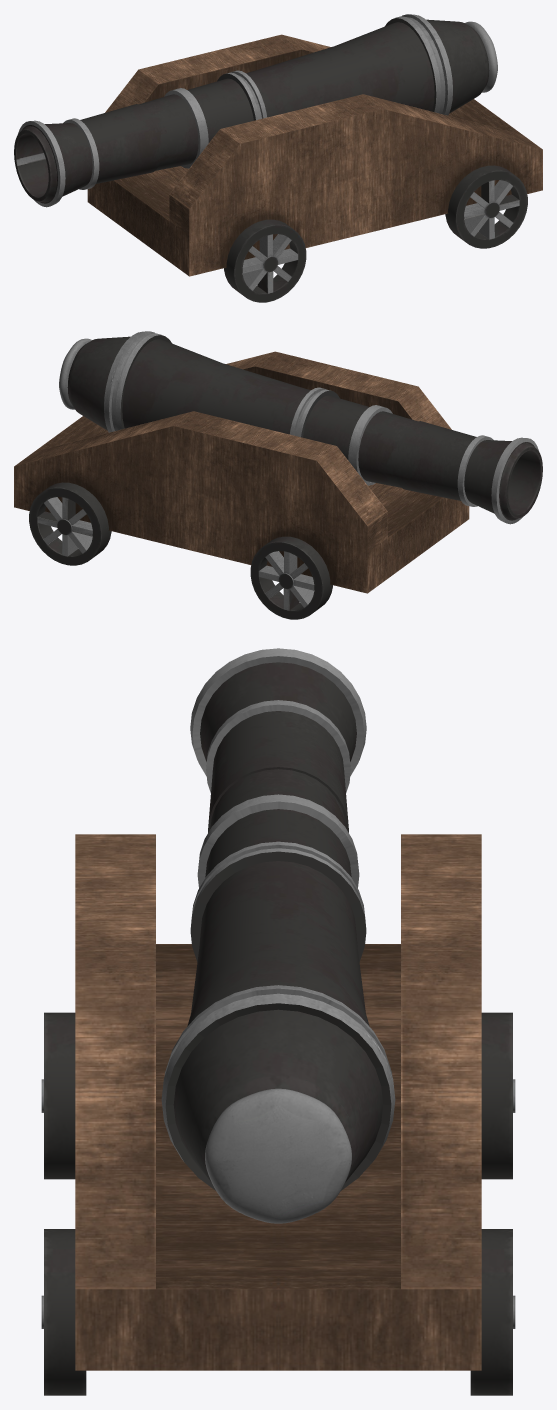
The model's file is cannon.glb.
3 renders of one model, top to bottom at view 1: azimuth 30°, elevation 25°; view 2: azimuth 150°, elevation 25°; view 3: azimuth 270°, elevation 25°, orthographic. The views are drawn at different scales.
Visible parts, largest first — view 1: Cube, Cylinder.007, Cylinder.004, Cylinder.002, Cylinder.013, Cylinder.009, Cylinder.012, Cylinder.011, Cylinder.001, Cylinder.010; view 2: Cube, Cylinder.007, Cylinder.004, Cylinder.002, Cylinder.013, Cylinder.009, Cylinder.012, Cylinder.011, Cylinder.001, Cylinder.010; view 3: Cube, Cylinder.007, Cylinder.001, Cylinder.002, Cylinder.004, Cylinder.013, Cylinder.012, Cylinder.009, Cylinder.011, Cylinder.010.
Boxes of the visible parts, left/top/right/bottom form: Cube: left=87, top=34, right=542, bottom=276; Cylinder.007: left=14, top=19, right=489, bottom=203; Cylinder.004: left=224, top=219, right=306, bottom=302; Cylinder.002: left=445, top=165, right=527, bottom=248; Cylinder.013: left=385, top=14, right=452, bottom=115; Cylinder.009: left=17, top=120, right=65, bottom=207; Cylinder.012: left=217, top=70, right=267, bottom=120; Cylinder.011: left=164, top=88, right=208, bottom=168; Cylinder.001: left=464, top=21, right=497, bottom=92; Cylinder.010: left=63, top=118, right=99, bottom=189; Cube: left=14, top=351, right=469, bottom=593; Cylinder.007: left=67, top=336, right=542, bottom=520; Cylinder.004: left=250, top=536, right=332, bottom=619; Cylinder.002: left=29, top=482, right=111, bottom=565; Cylinder.013: left=104, top=331, right=171, bottom=432; Cylinder.009: left=491, top=437, right=539, bottom=524; Cylinder.012: left=289, top=387, right=339, bottom=437; Cylinder.011: left=348, top=405, right=392, bottom=485; Cylinder.001: left=59, top=338, right=92, bottom=409; Cylinder.010: left=457, top=435, right=493, bottom=506; Cube: left=75, top=834, right=481, bottom=1370; Cylinder.007: left=173, top=662, right=383, bottom=1182; Cylinder.001: left=205, top=1088, right=351, bottom=1223; Cylinder.002: left=44, top=1229, right=512, bottom=1395; Cylinder.004: left=44, top=1012, right=512, bottom=1179; Cylinder.013: left=161, top=985, right=395, bottom=1190; Cylinder.012: left=190, top=841, right=366, bottom=961; Cylinder.009: left=190, top=648, right=366, bottom=775; Cylinder.011: left=197, top=794, right=359, bottom=887; Cylinder.010: left=206, top=700, right=350, bottom=792.
Bounding box in the file's own units: 7.89 × 3.11 × 3.52.
Materials: 1 (1 with a texture image).
